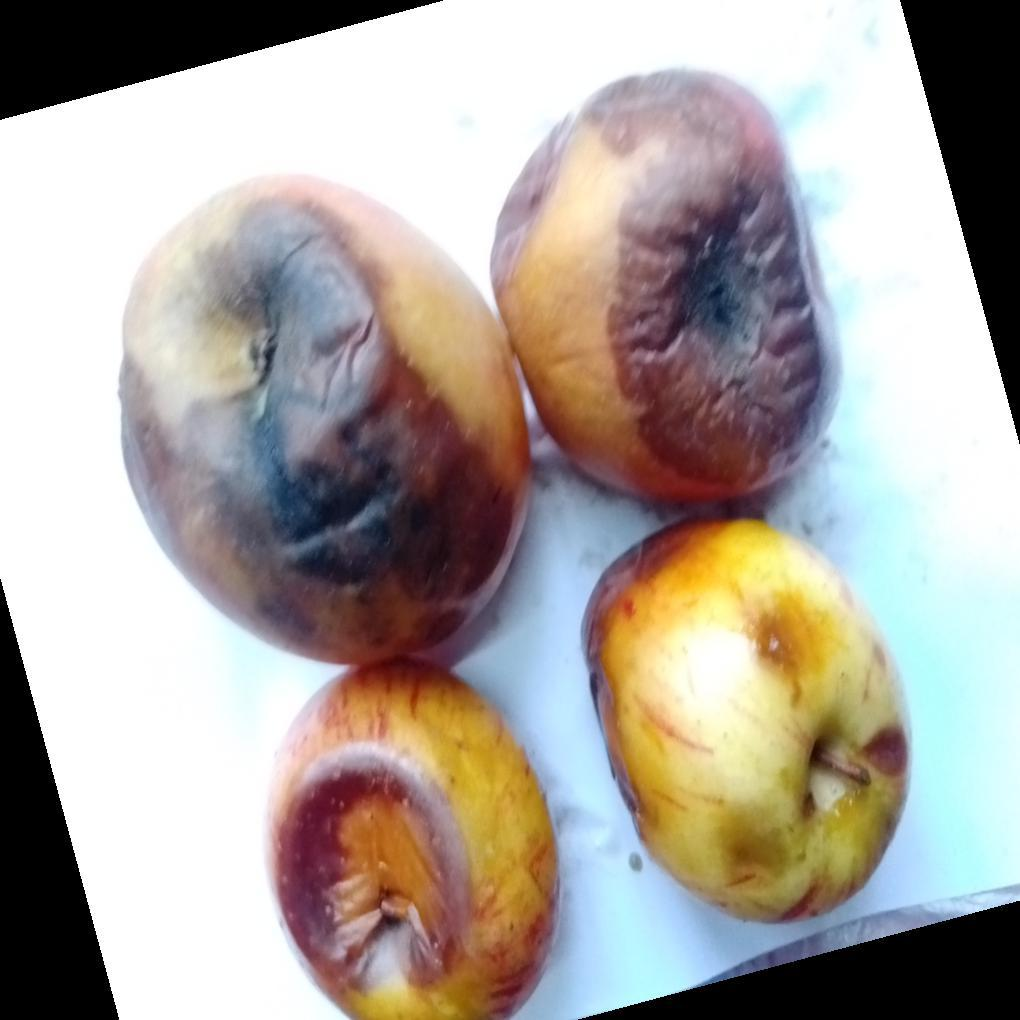FreshOrange: (118, 70, 838, 985), (581, 517, 910, 924)
